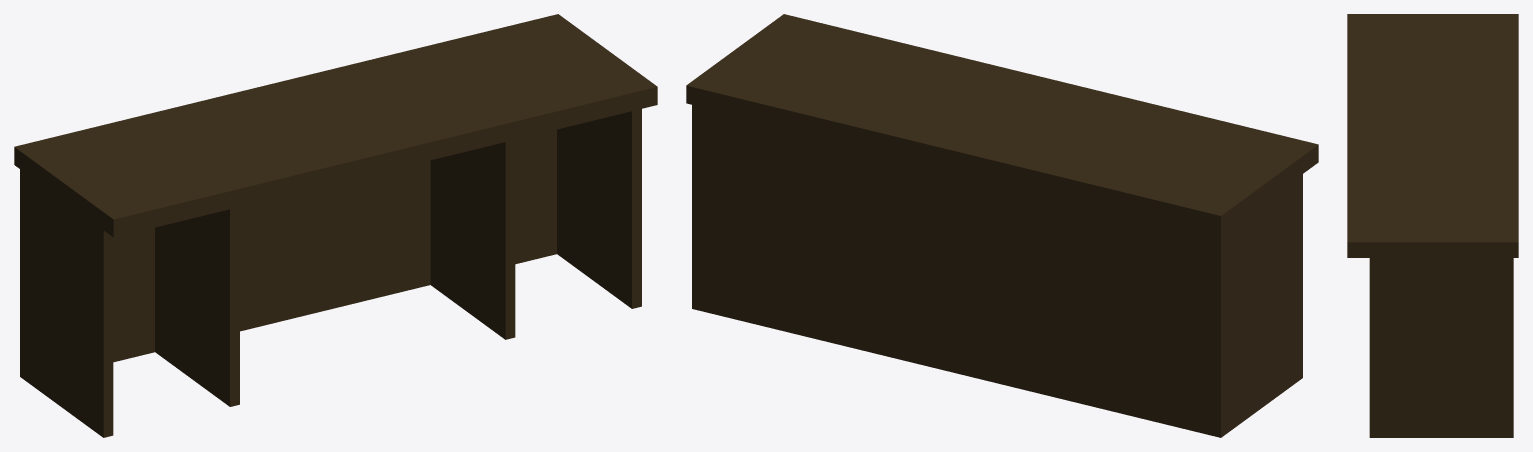
The model's file is Office_Desk_3_Alt.fbx.
3 views of the same model, side by side, from view 1: azimuth 30°, elevation 25°; view 2: azimuth 150°, elevation 25°; view 3: azimuth 270°, elevation 25° (orthographic). The views are drawn at different scales.
Parts seen in each view (by area): view 1: Office_Desk_3_Alt; view 2: Office_Desk_3_Alt; view 3: Office_Desk_3_Alt.
Boxes of the visible parts, x1=… form: Office_Desk_3_Alt: x1=14, y1=14, x2=657, y2=437; Office_Desk_3_Alt: x1=686, y1=14, x2=1318, y2=437; Office_Desk_3_Alt: x1=1347, y1=14, x2=1518, y2=437.
Size of the model in its own units: 237 by 95.09 by 75.
